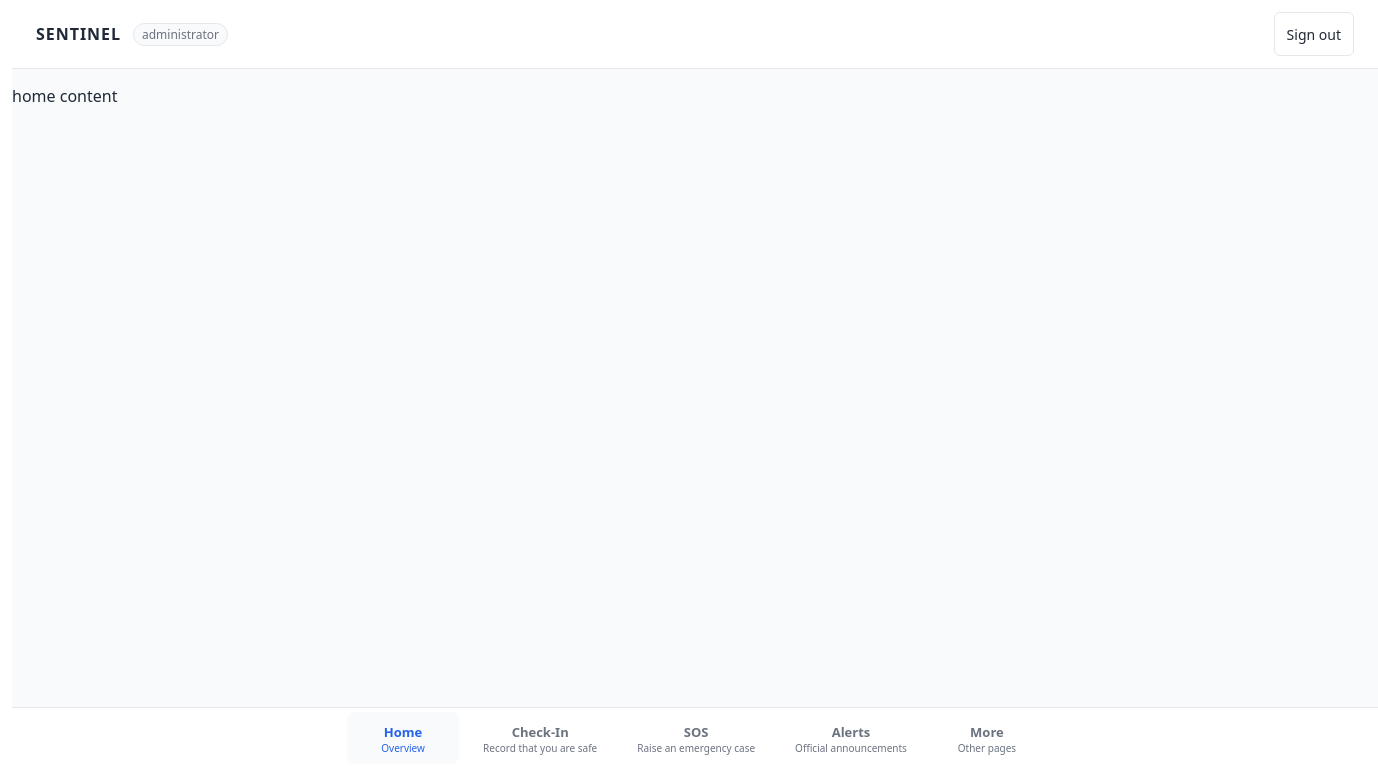
AppShell › shows responder and administrator links to an administrator
Click the button "More Other pages".
click(987, 738)  # box [931,712,1043,764]
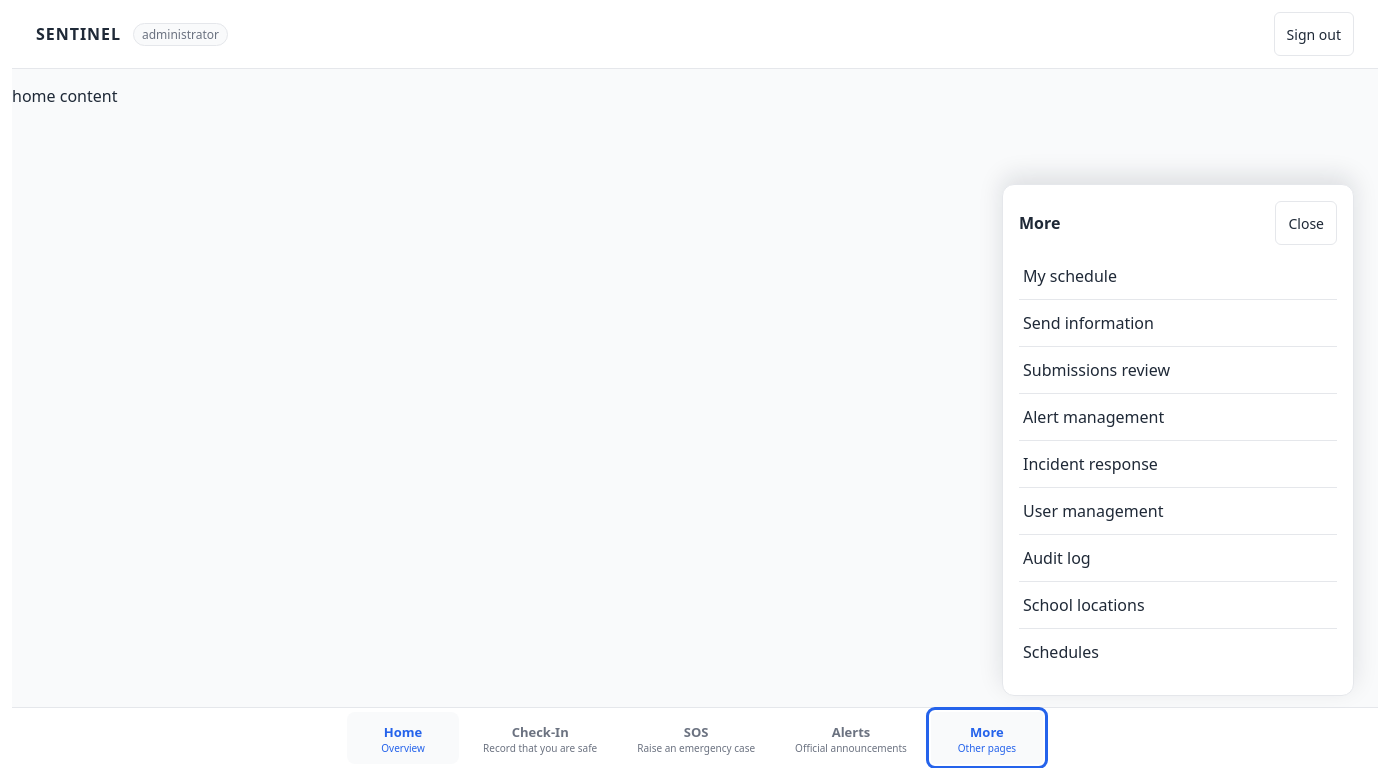
Check: the link "Incident response" is shown, box [1023,453,1158,475]
Check: the link "User management" is shown, box [1023,500,1164,522]
Check: the link "School locations" is shown, box [1023,594,1145,616]
